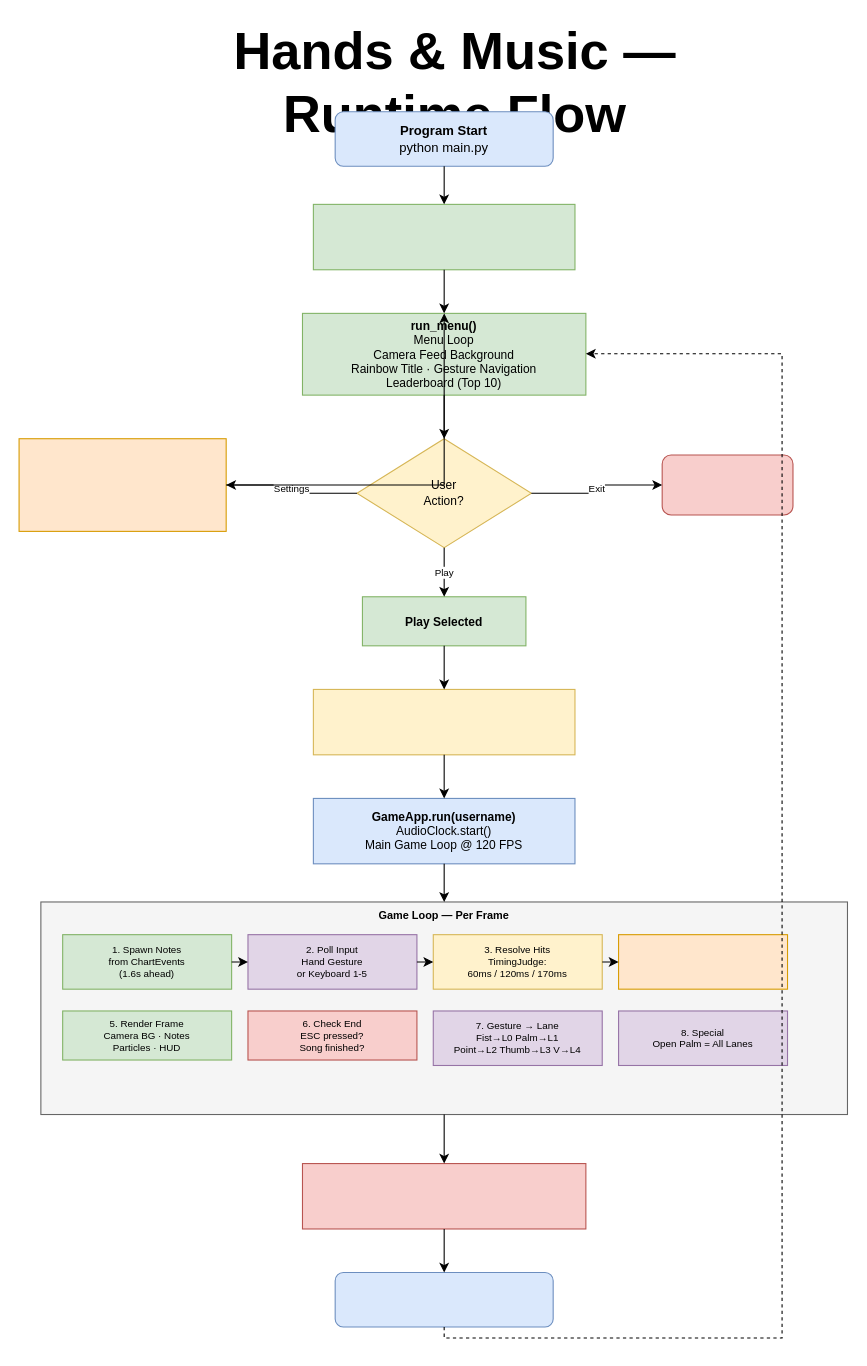
Some shapes in this 867 by 1366 pixel diagram are drawn without their labels. Here are the shapes that lost their labels. From the top down, the centre of each, then its label:
(x=443, y=236): Initialize pygame.init() · GameConfig() ScoreManager("scores.json")
(x=122, y=484): Settings Volume · Username Browse Audio · Select Level Record New Level
(x=727, y=484): Exit pygame.quit()
(x=443, y=721): Load Chart Manual level .json OR auto-generate from BPM
(x=702, y=961): 4. Update Score Perfect = 10x combo Good = 5x · Miss = -5
(x=443, y=1195): Game Over · Save Score score_manager.add_score() scores.json (Top 10)
(x=443, y=1299): Return to Menu Loop Forever
